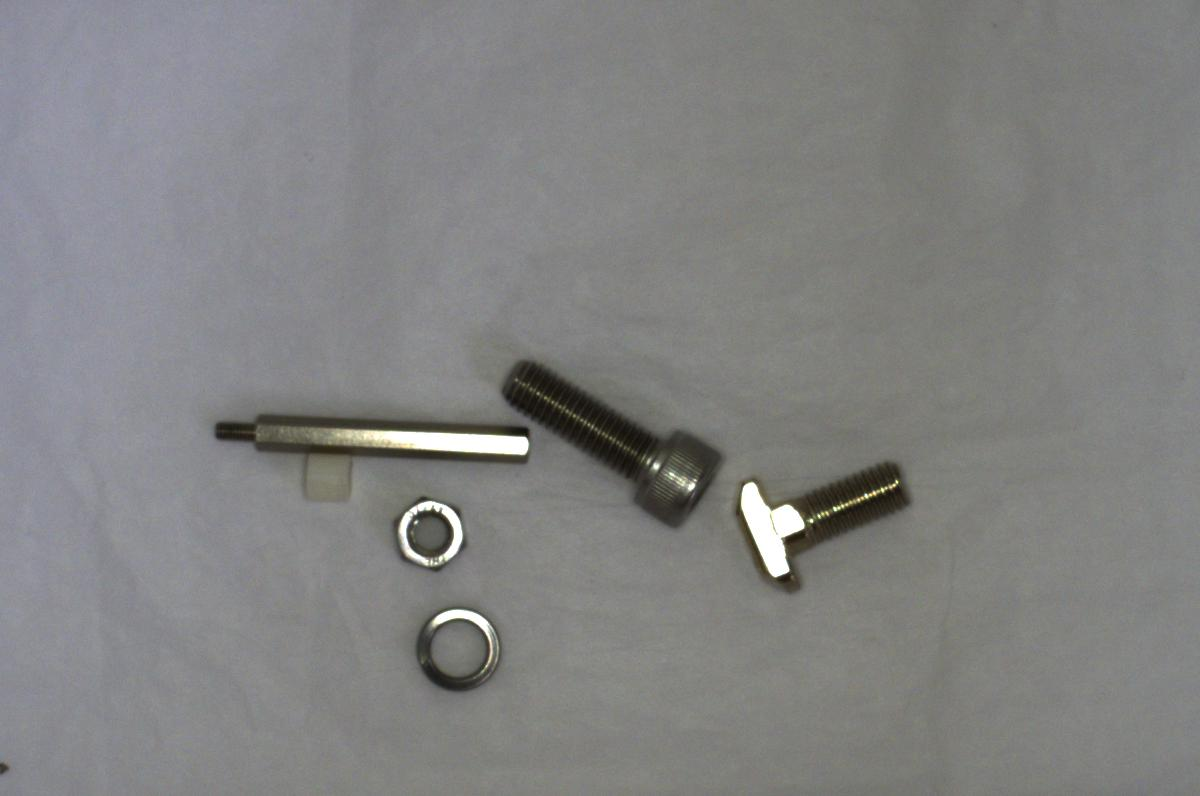Hexagon nut: (384, 492, 470, 579)
Hexagon screw: (490, 367, 725, 526)
Hexagonal steel column: (199, 405, 544, 472)
Plastic cushion pillar: (292, 449, 362, 503)
Spring washer: (408, 600, 511, 694)
T-shaped screw: (727, 454, 917, 594)
